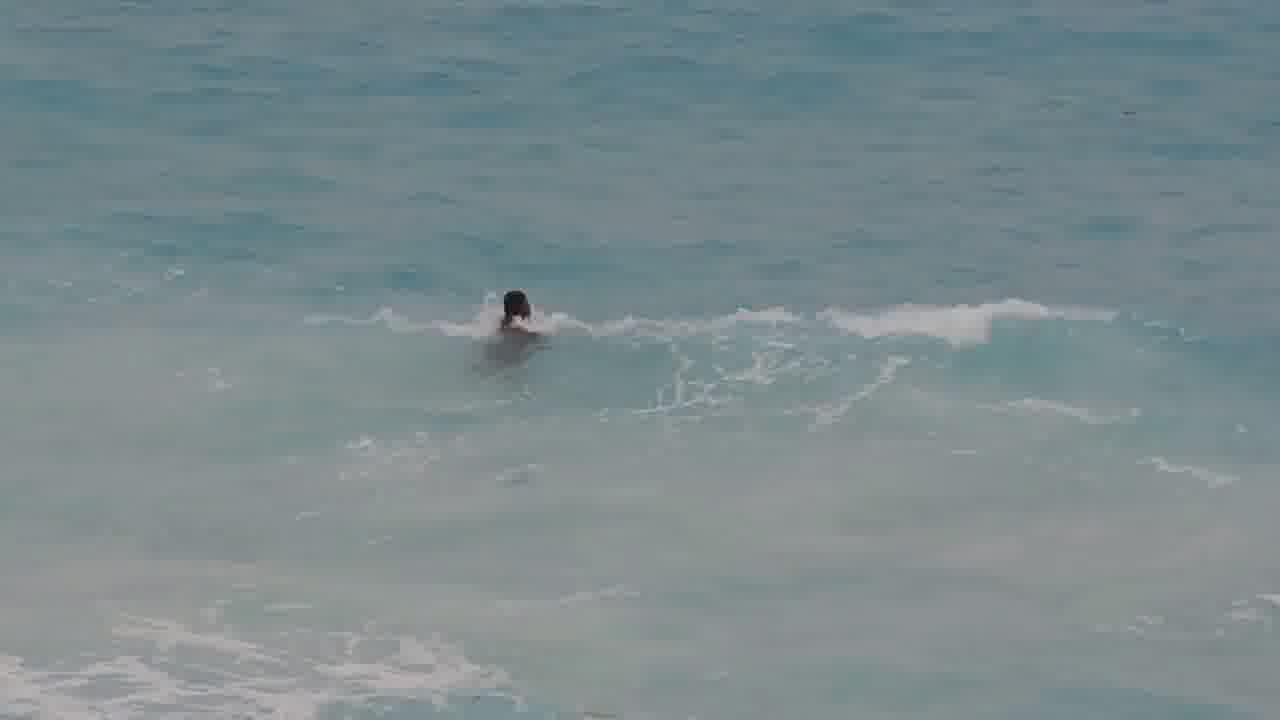human: (488, 283, 543, 346)
